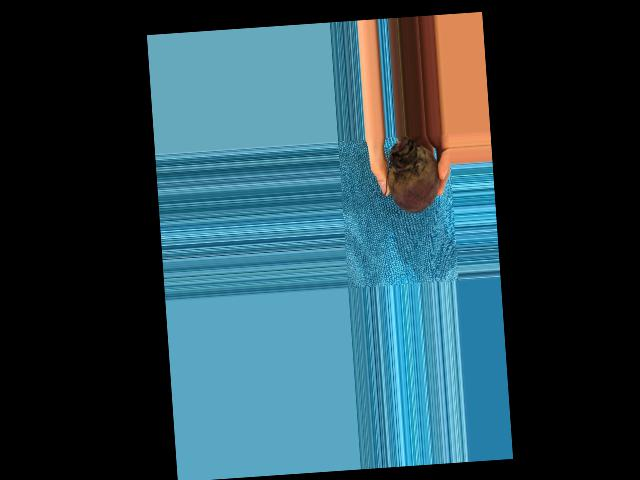beet: (378, 135, 441, 215)
